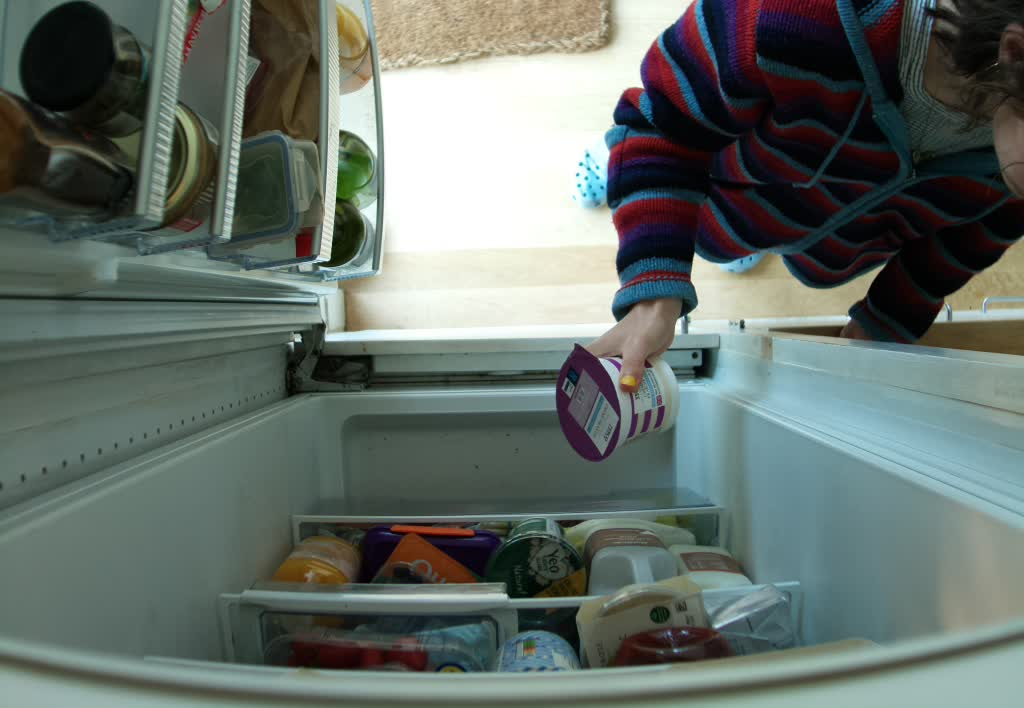cream: (556, 338, 684, 466)
